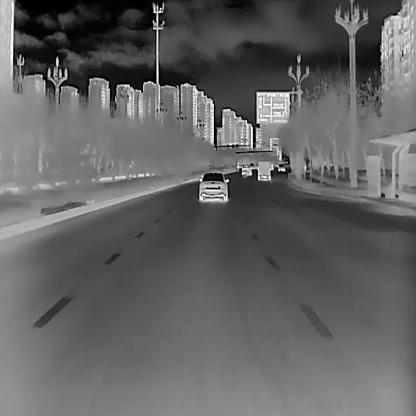car: (197, 171, 228, 202), (256, 159, 272, 181), (241, 164, 252, 176), (276, 163, 284, 172)
